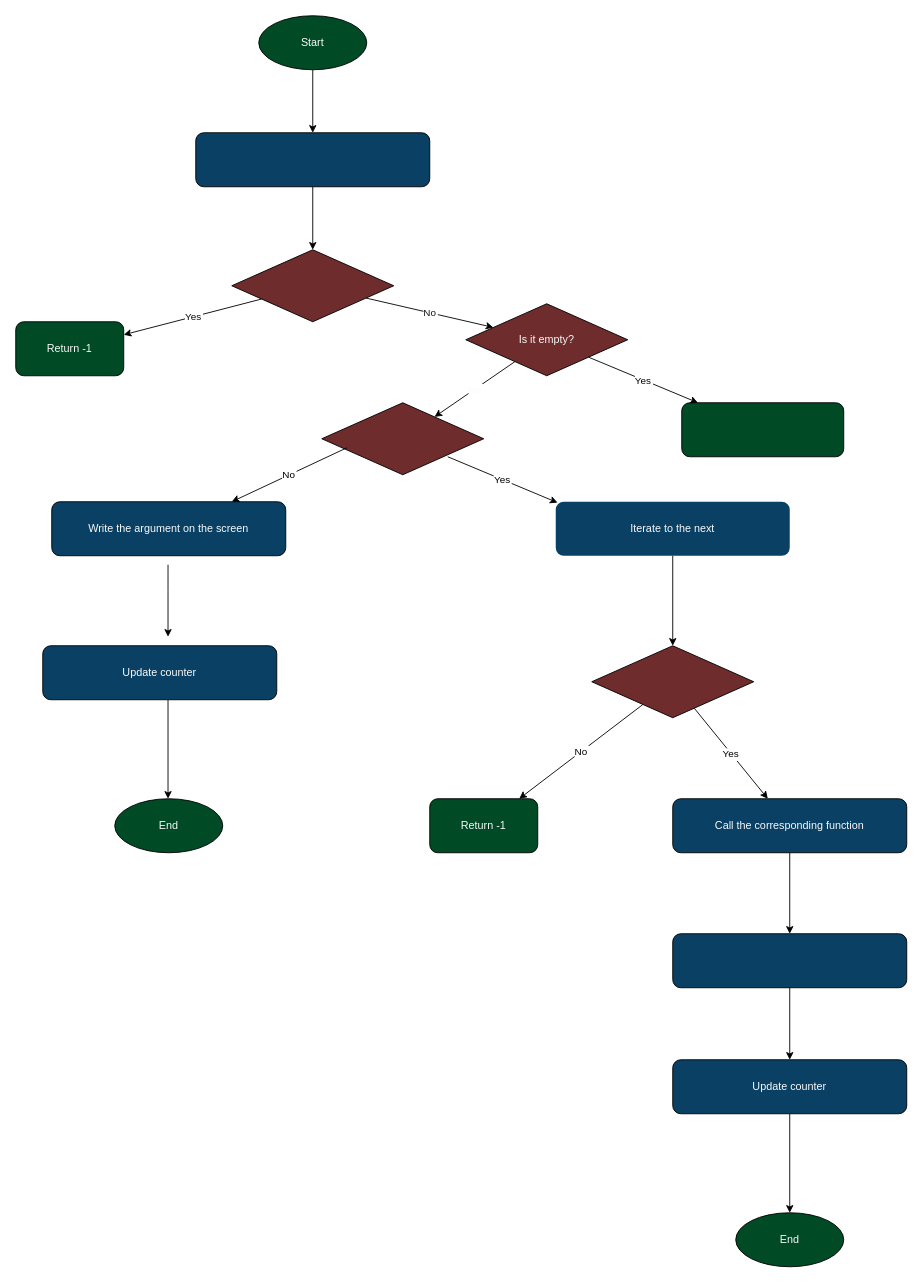
This 923x1283 diagram has some shape labels left out. Here are the shapes that lost their labels. From the top down, the box of each, then its label:
(195, 132, 430, 187): Initialize variable and receive format
(231, 249, 394, 322): Format is NULL?
(321, 402, 484, 475): ¿Is %?
(681, 402, 844, 457): Return counter
(591, 645, 754, 718): Valid format?
(672, 933, 907, 988): Show result
